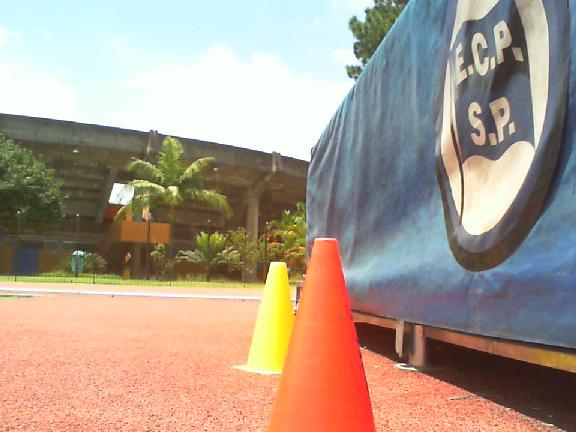0 cone: (246, 238, 399, 432), (233, 261, 294, 375)
